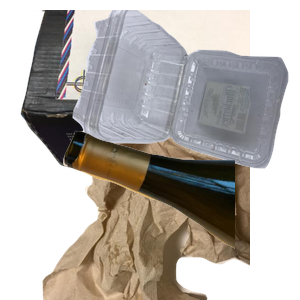cardboard: (18, 10, 258, 171)
glass: (60, 128, 300, 300)
plastic: (70, 10, 300, 171)
trash: (40, 120, 280, 300)
